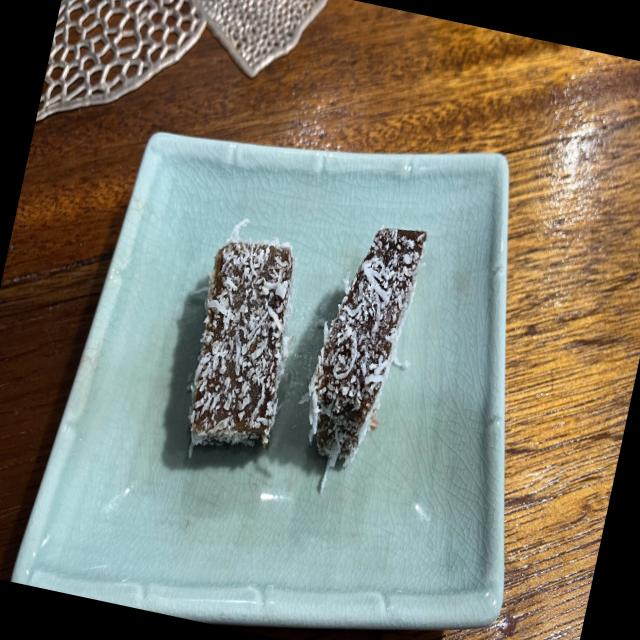kaswi: (302, 227, 426, 490), (303, 227, 426, 490), (188, 218, 294, 456)
